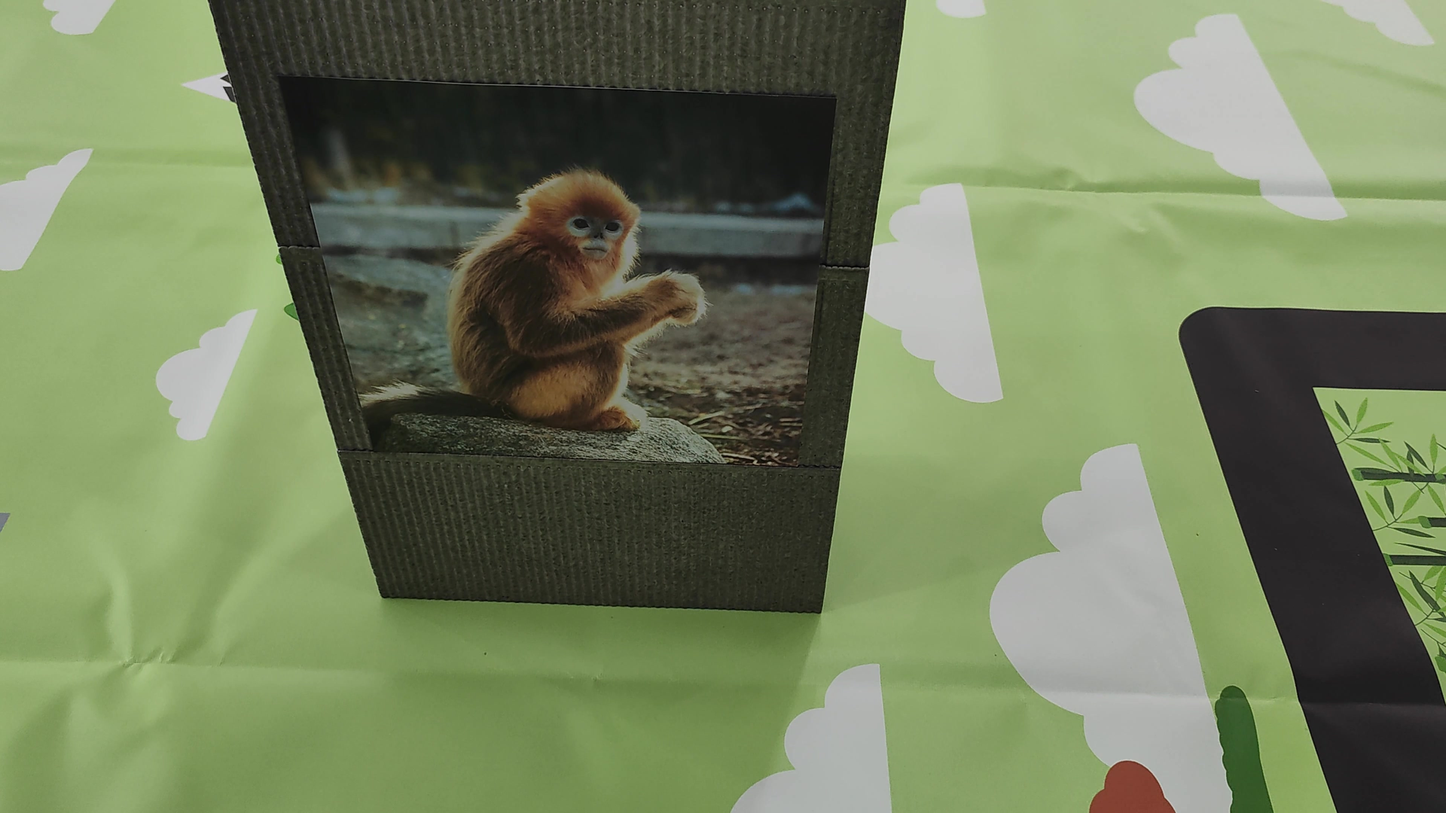monkey: (367, 100, 774, 458)
